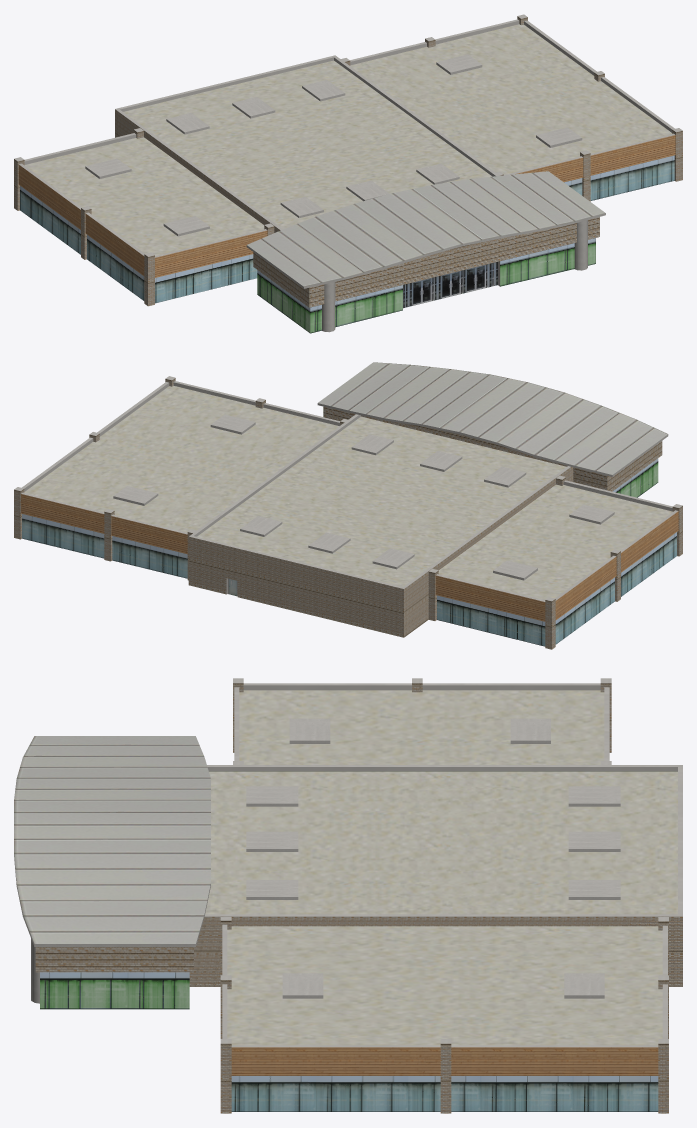
File: uksupermarket3.FBX
The picture shows the model from 3 angles, top to bottom: view 1: azimuth 30°, elevation 25°; view 2: azimuth 150°, elevation 25°; view 3: azimuth 270°, elevation 25°; orthographic projection. The views are drawn at different scales.
Visible parts, largest first — view 1: Box002; view 2: Box002; view 3: Box002.
Boxes of the visible parts, box(x1,y1,x2,y2) form: Box002: box(14, 14, 682, 333); Box002: box(14, 362, 682, 649); Box002: box(14, 678, 682, 1113).
Size of the model in its own units: 168 by 18.56 by 130.
